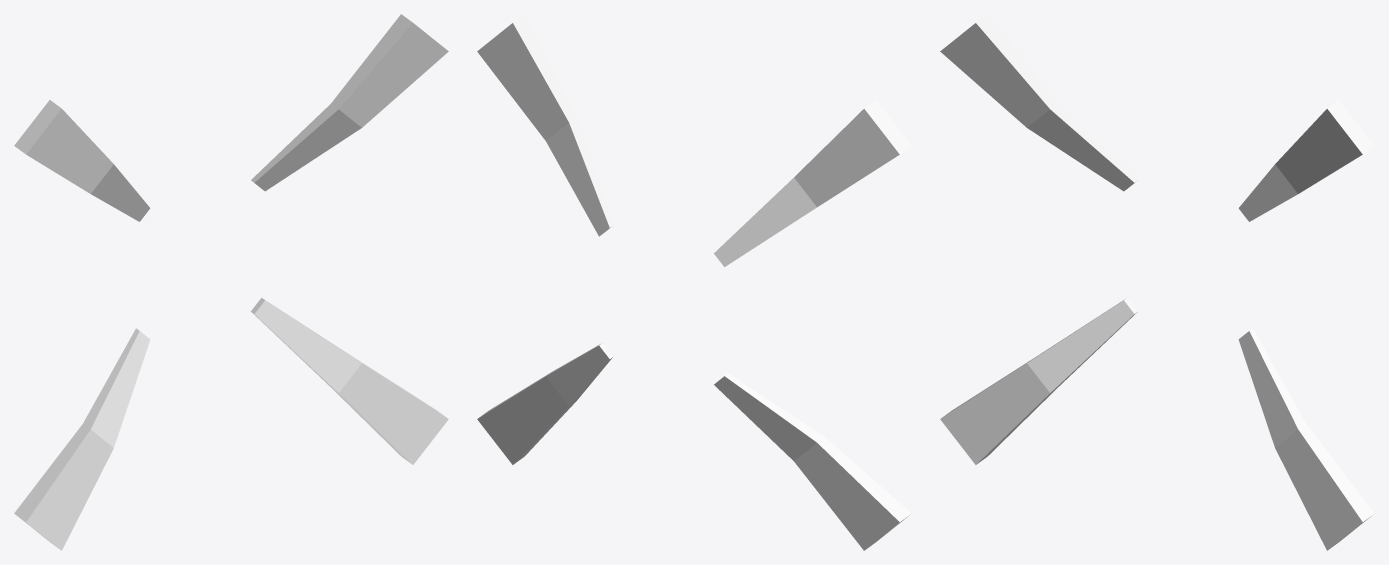
File: target.glb
3 views of the same model, side by side, from view 1: azimuth 30°, elevation 25°; view 2: azimuth 150°, elevation 25°; view 3: azimuth 330°, elevation 25° (orthographic).
Parts seen in each view (by area): view 1: Cube.121; view 2: Cube.121; view 3: Cube.121.
Boxes of the visible parts, bbox=[...] form: Cube.121: bbox=[14, 14, 448, 550]; Cube.121: bbox=[477, 14, 911, 550]; Cube.121: bbox=[940, 14, 1374, 550].
Bounding box in the file's own units: 0.9494 × 0.9494 × 0.1505.
1 material, 1 textured.
